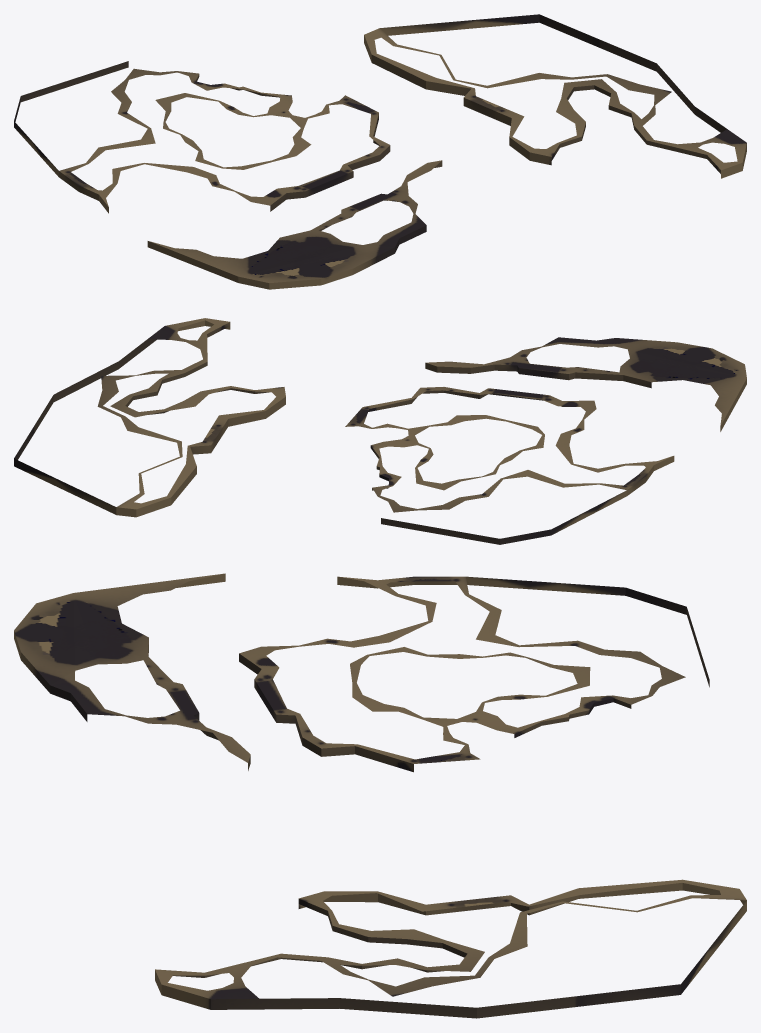
The model's file is Ground_01.FBX.
The picture shows the model from 3 angles, top to bottom: view 1: azimuth 30°, elevation 25°; view 2: azimuth 150°, elevation 25°; view 3: azimuth 270°, elevation 25°; orthographic projection. The views are drawn at different scales.
Parts seen in each view (by area): view 1: Ground_01; view 2: Ground_01; view 3: Ground_01.
Part boxes in pixels (x1=…): Ground_01: x1=14, y1=14, x2=746, y2=289; Ground_01: x1=14, y1=318, x2=746, y2=544; Ground_01: x1=14, y1=573, x2=746, y2=1018.
Size of the model in its own units: 39.31 by 3.18 by 32.07.
